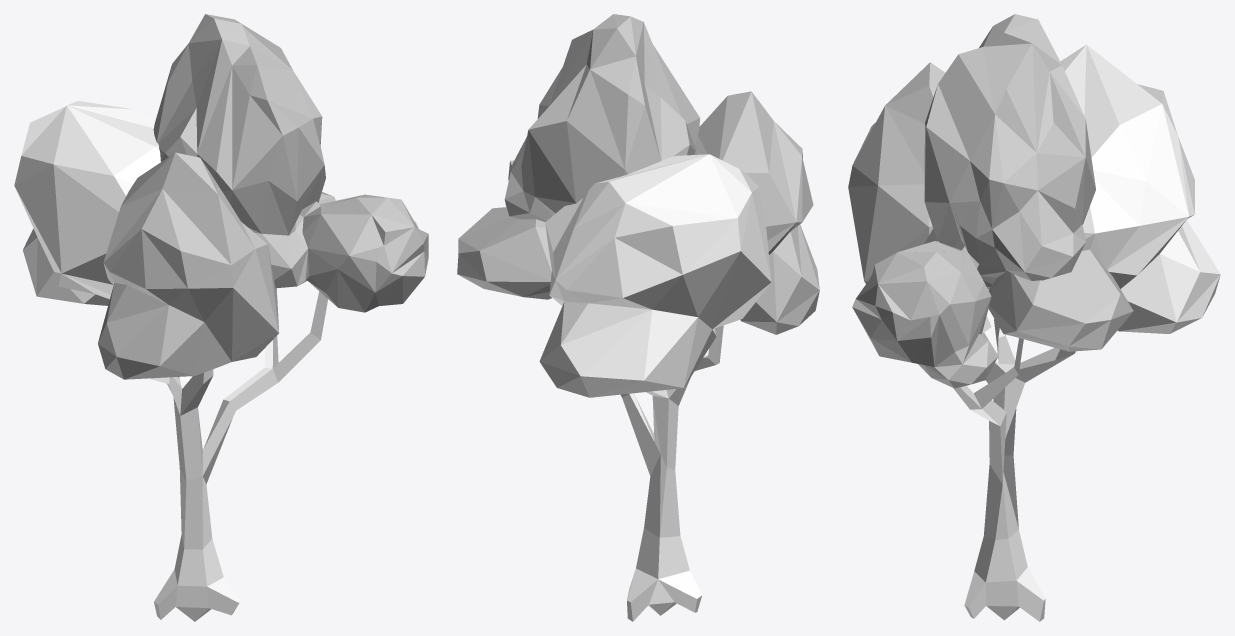
File: ancient_SM_Env_Tree_01.gltf
3 renders of one model, left to right at view 1: azimuth 30°, elevation 25°; view 2: azimuth 150°, elevation 25°; view 3: azimuth 270°, elevation 25°, orthographic. The views are drawn at different scales.
Parts seen in each view (by area): view 1: SM_Env_Tree_01; view 2: SM_Env_Tree_01; view 3: SM_Env_Tree_01.
Boxes of the visible parts, box(x1,y1,x2,y2) form: SM_Env_Tree_01: box(14, 14, 428, 621); SM_Env_Tree_01: box(457, 14, 819, 621); SM_Env_Tree_01: box(848, 14, 1220, 621).
Bounding box in the file's own units: 5.88 × 10.53 × 5.74.
1 material, 1 textured.
